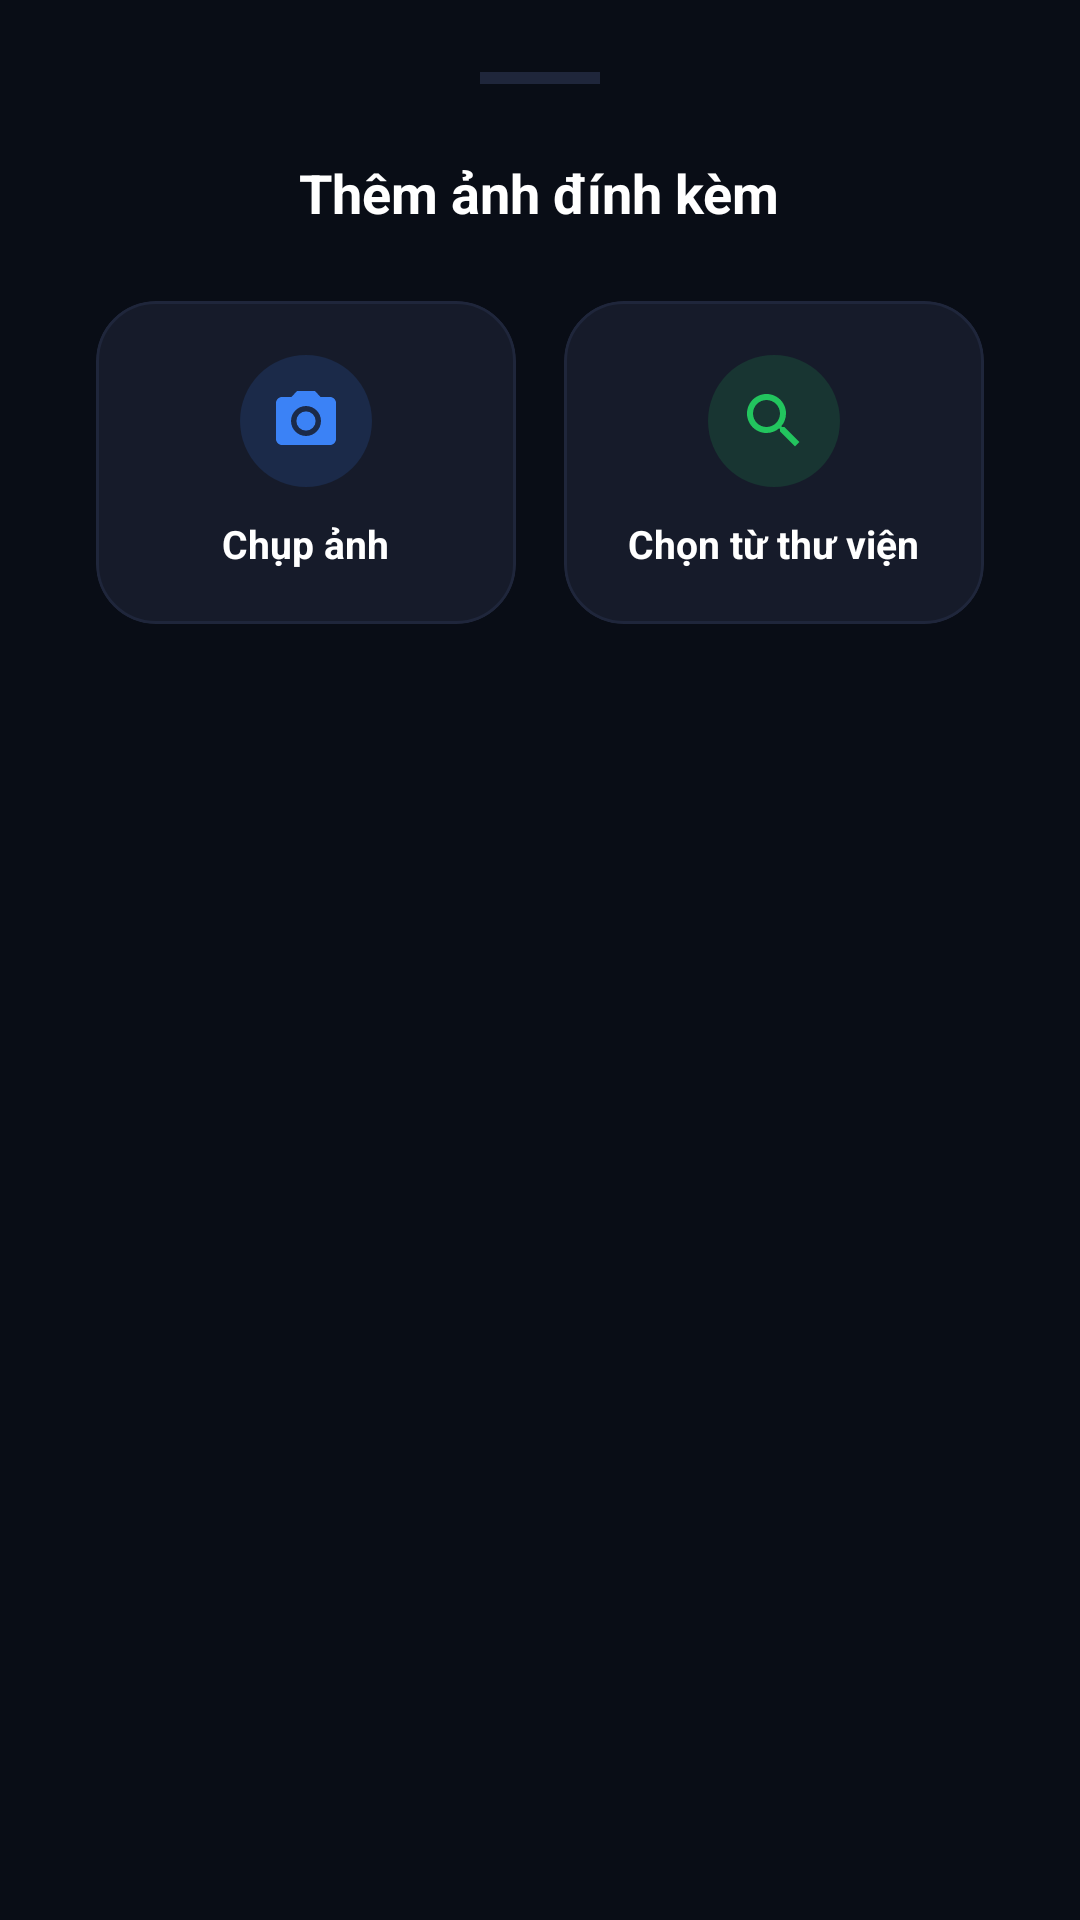

Icon click points for this 1080w x 1920h phone screenshot, format point (x, y):
camera: point (306, 421)
search lens: point (774, 421)
